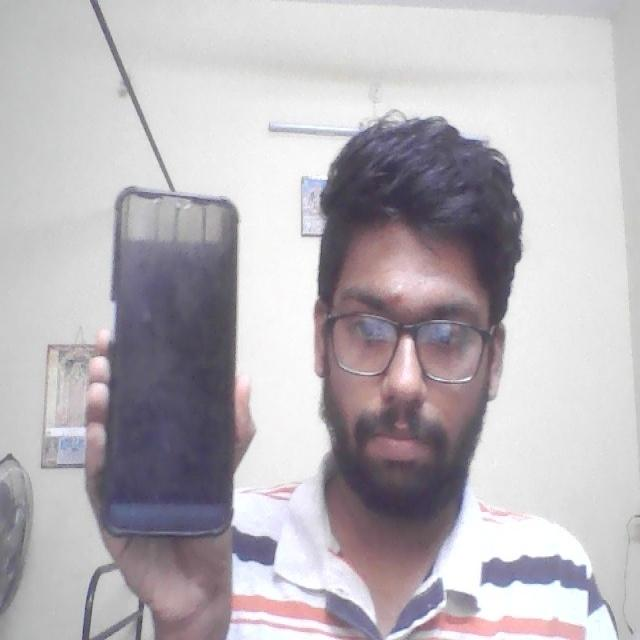Mobile: (104, 185, 242, 540)
